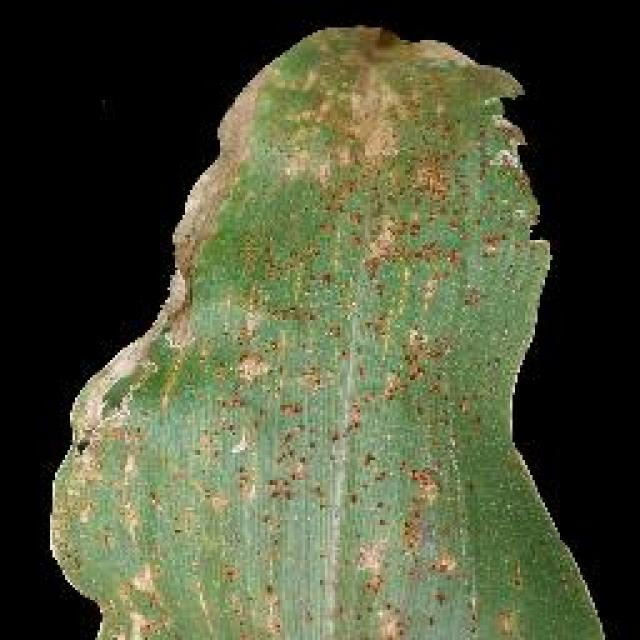Corn Common Rust: (216, 60, 522, 582)
